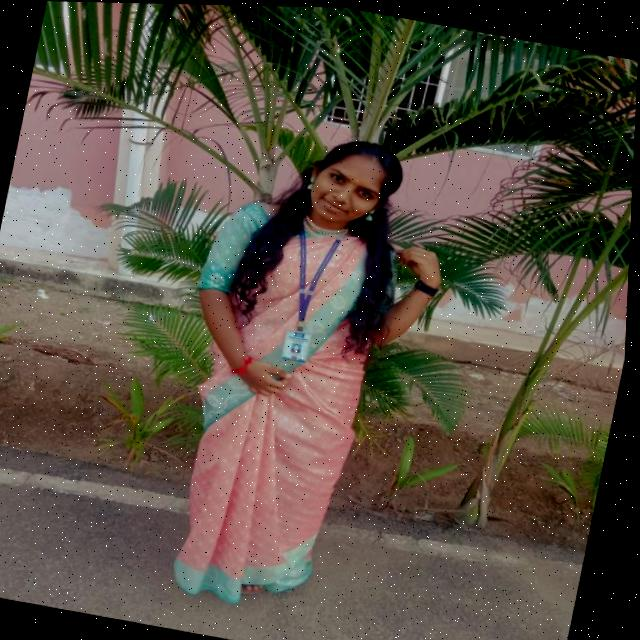id_card: (268, 208, 354, 379)
